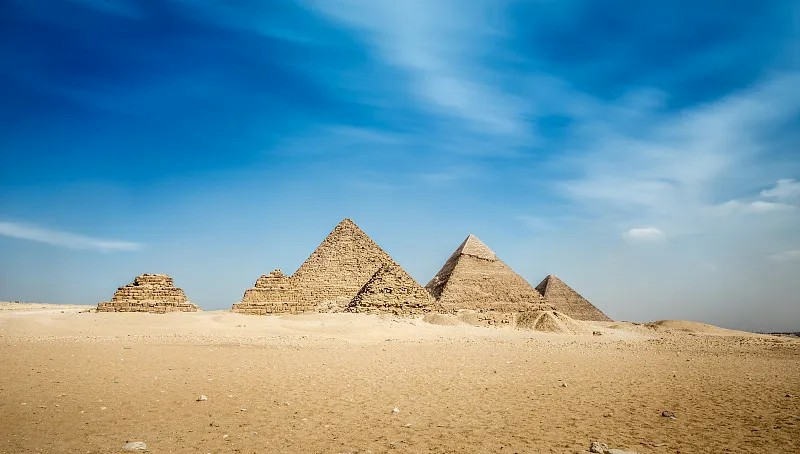Pyramid: (425, 235, 548, 311), (291, 219, 393, 307), (345, 259, 445, 313), (98, 273, 202, 313), (534, 274, 615, 324), (231, 271, 315, 313)
